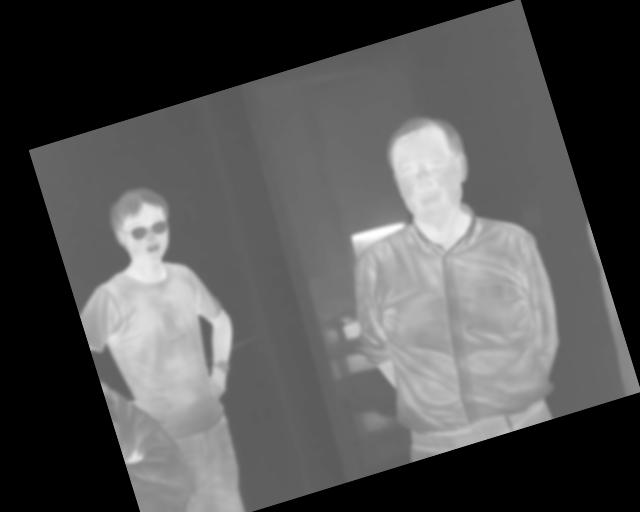face: (376, 104, 483, 233), (102, 180, 184, 275)
